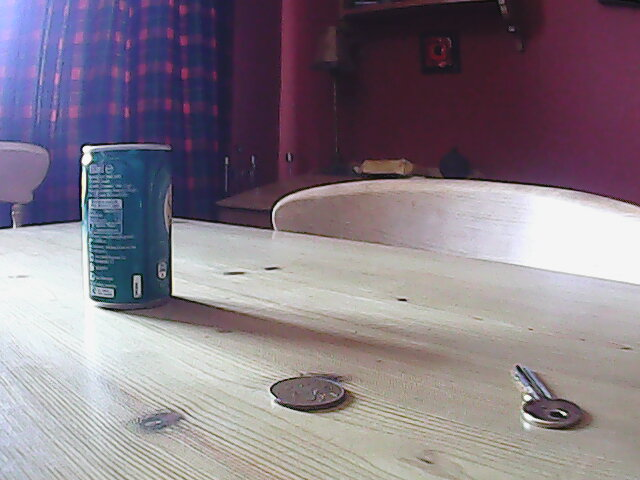Can: (75, 143, 177, 313)
Coin: (267, 374, 350, 413)
Key: (506, 363, 585, 436)
